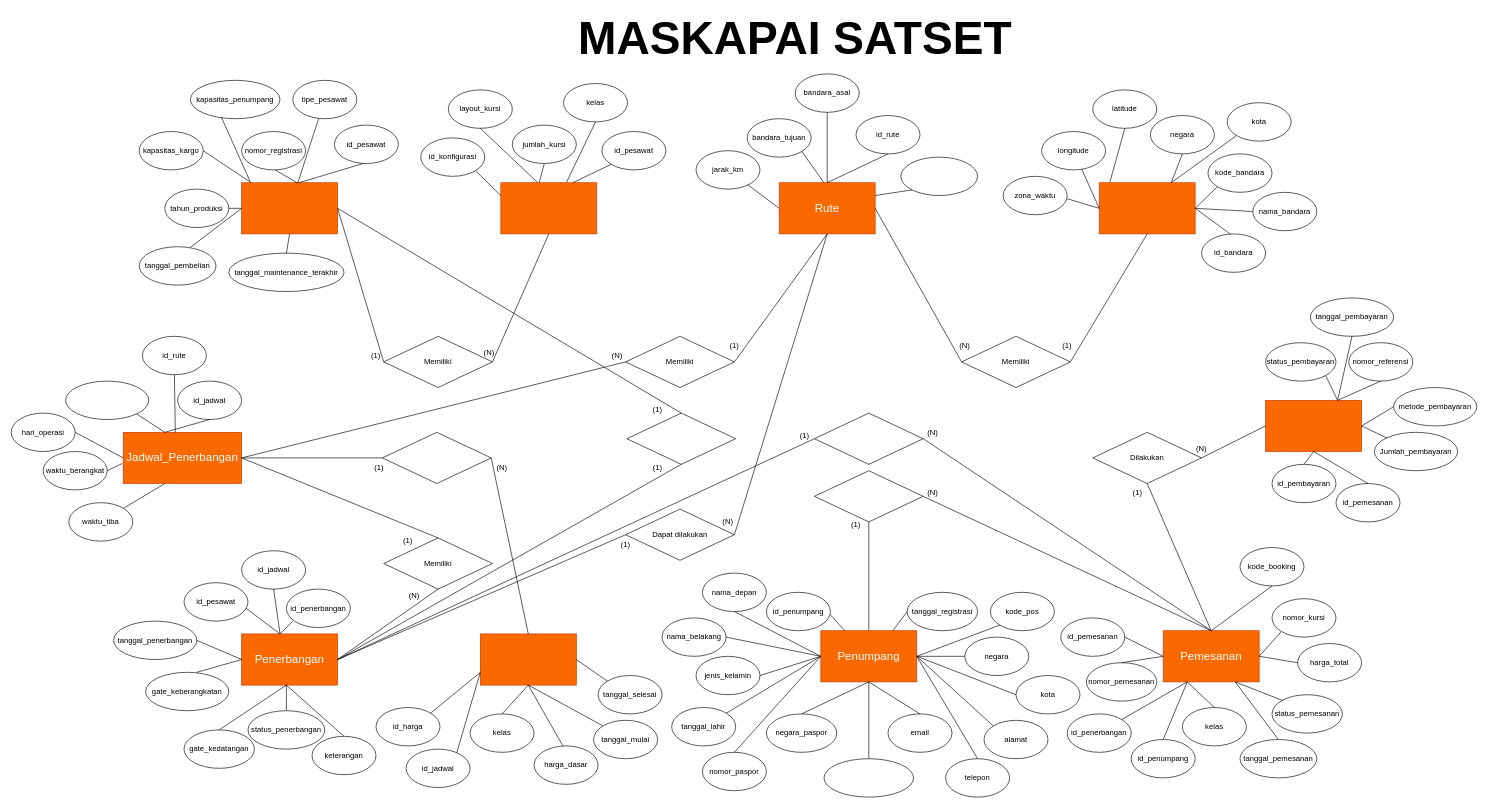
The diagram is 1488 pixels wide and 808 high, and some of its shapes have lost their labels. Here are the shapes that lost their labels. From the top down, the centre of each, then its label:
point (939, 176): durasi_penerbangan
point (289, 208): Pesawat
point (548, 208): Konfigurasi_kursi
point (1147, 208): Bandara
point (107, 400): nomor_penerbangan
point (681, 438): Melakukan
point (868, 438): Terdiri
point (1313, 426): Pembayaran
point (436, 458): Mempunyai
point (868, 496): Membuat
point (528, 659): Harga_Tiket
point (868, 777): tanggal_expired_paspor
